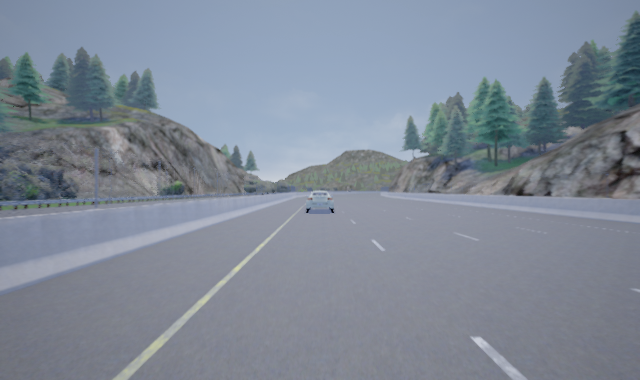vehicle: (305, 190, 335, 213)
